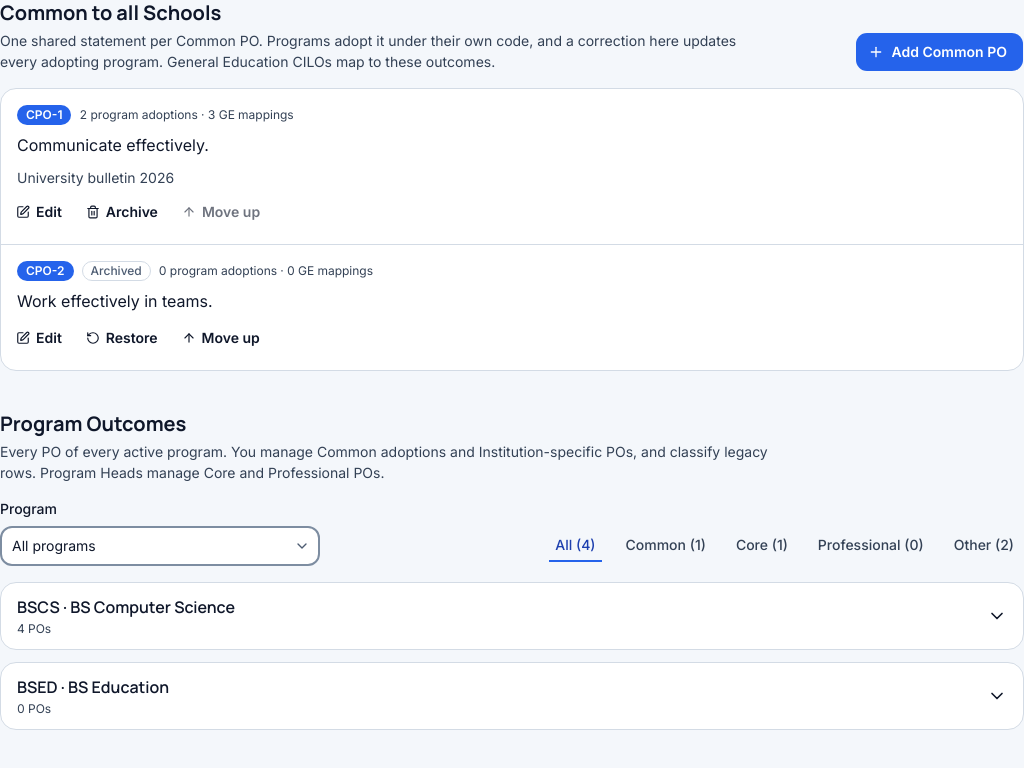
Scenario: CentralOutcomesCatalog › warns that archiving a central definition makes dependent GE courses incomplete
Click the button "Archive" at coordinates (125, 212), box [79,196,171,228]
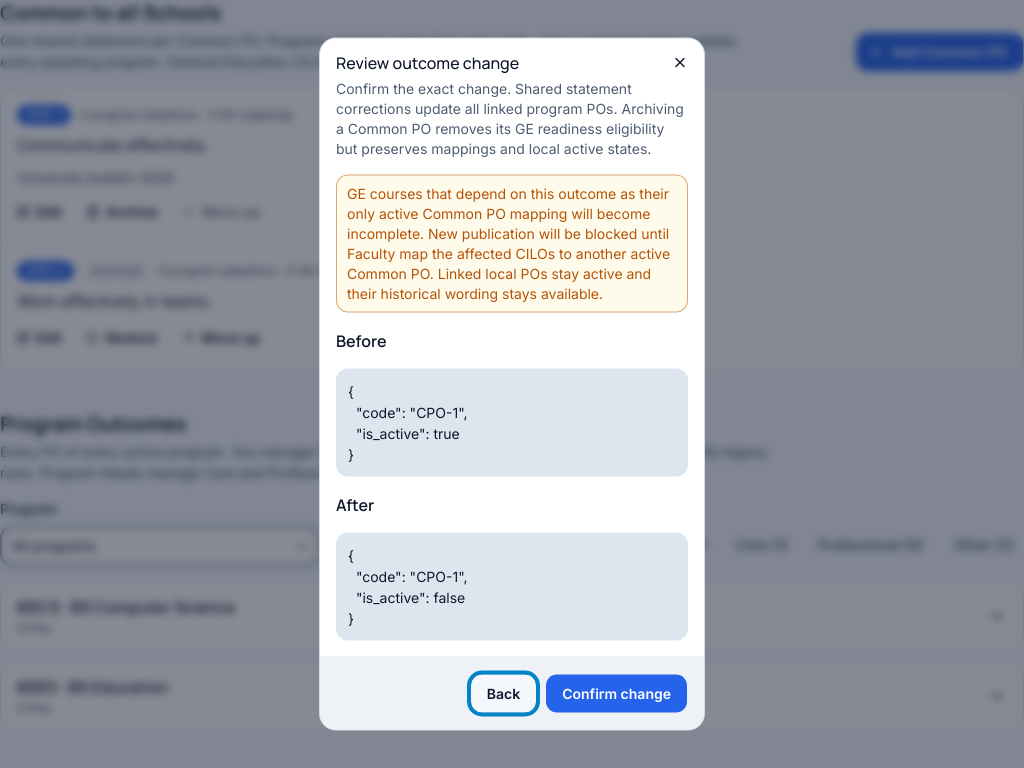
Check: the text "Linked local POs stay active" is shown, box [347,184,670,302]
